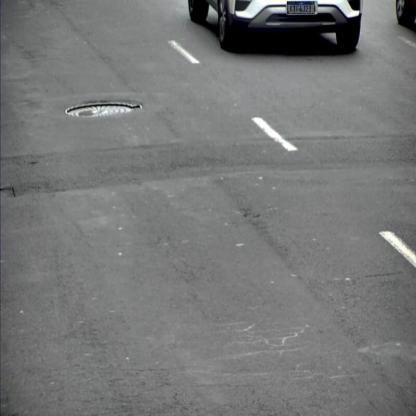PlacaM: (287, 1, 315, 14)
